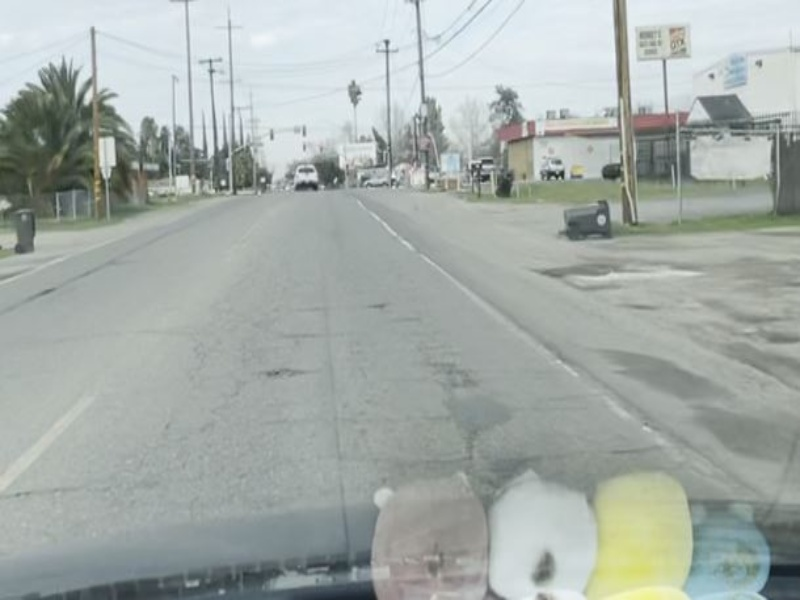pothole: (261, 367, 303, 383), (368, 300, 391, 313)
